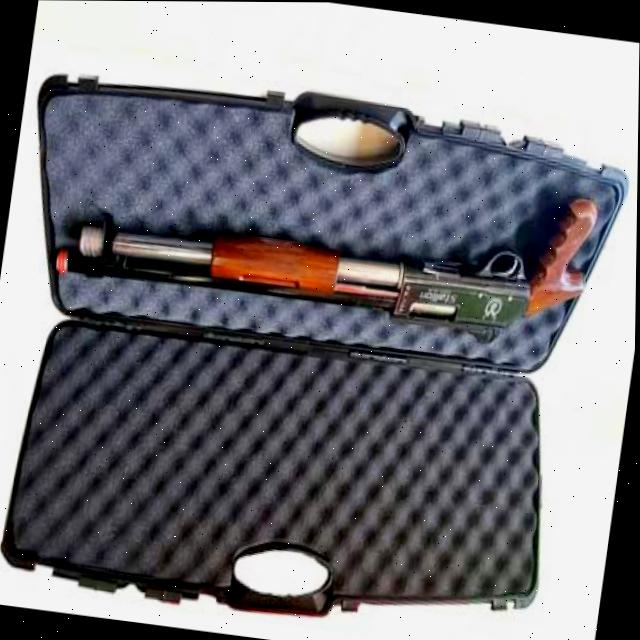firearm: (49, 124, 601, 354)
